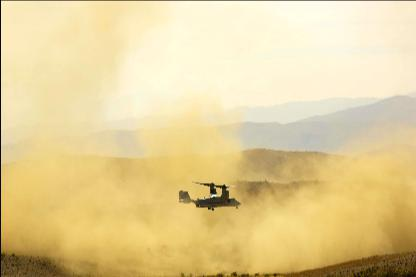Tornado: (177, 180, 241, 210)
